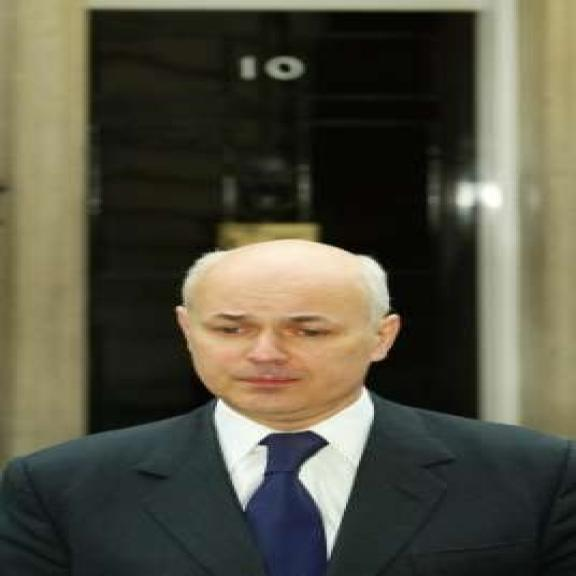face: (185, 276, 403, 418)
